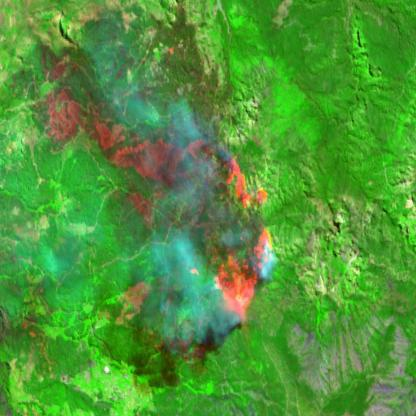fire: (205, 150, 278, 335)
